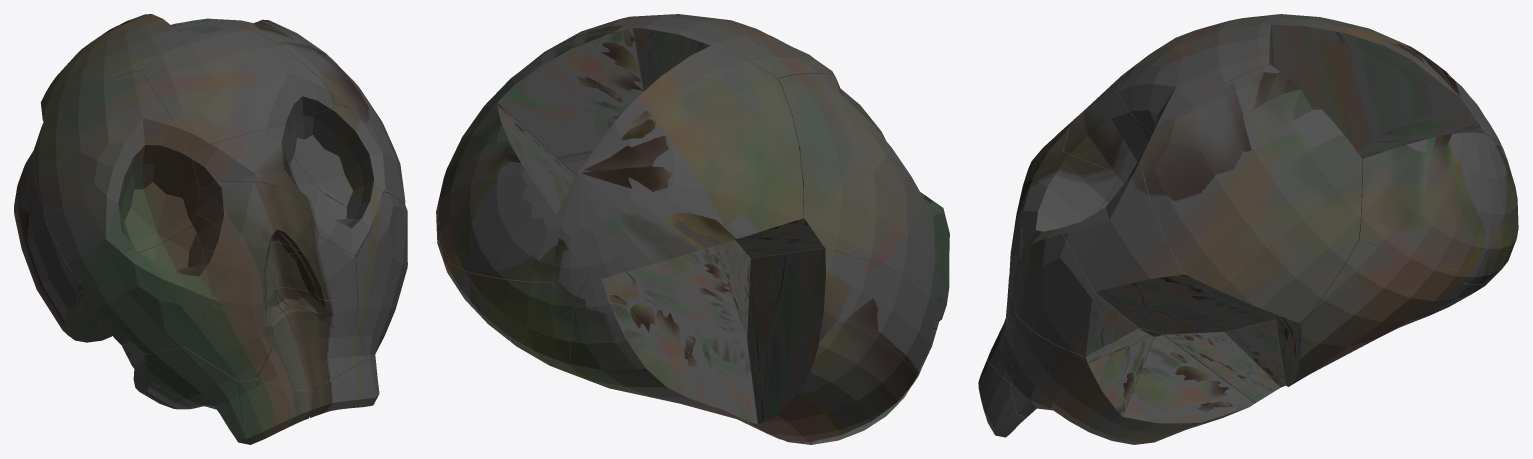
Rendered from iskelet2.fbx.
3 renders of one model, left to right at view 1: azimuth 30°, elevation 25°; view 2: azimuth 150°, elevation 25°; view 3: azimuth 270°, elevation 25°, orthographic. The views are drawn at different scales.
Parts seen in each view (by area): view 1: Sphere.001_cell.009, Sphere.001_cell, Sphere.001_cell.007, Sphere.001_cell.027, Sphere.001_cell.024, Sphere.001_cell.004, Sphere.001_cell.048, Sphere.001_cell.037, Sphere.001_cell.042, Sphere.001_cell.015, Sphere.001_cell.025, Sphere.001_cell.012 (+18 smaller); view 2: Sphere.001_cell.048, Sphere.001_cell.024, Sphere.001_cell.049, Sphere.001_cell.009, Sphere.001_cell.017, Sphere.001_cell.008, Sphere.001_cell, Sphere.001_cell.023, Sphere.001_cell.028, Sphere.001_cell.032, Sphere.001_cell.007; view 3: Sphere.001_cell.008, Sphere.001_cell.048, Sphere.001_cell.017, Sphere.001_cell.027, Sphere.001_cell.019, Sphere.001_cell.041, Sphere.001_cell, Sphere.001_cell.011, Sphere.001_cell.025, Sphere.001_cell.001, Sphere.001_cell.037, Sphere.001_cell.046 (+6 smaller).
Boxes of the visible parts, x1,y1,x2,y2 form: Sphere.001_cell.009: (33,71,199,281); Sphere.001_cell: (141,28,334,150); Sphere.001_cell.007: (80,226,211,353); Sphere.001_cell.027: (293,104,405,206); Sphere.001_cell.024: (14,151,116,342); Sphere.001_cell.004: (196,181,318,251); Sphere.001_cell.048: (40,14,185,121); Sphere.001_cell.037: (189,122,300,190); Sphere.001_cell.042: (146,345,242,441); Sphere.001_cell.015: (185,301,270,381); Sphere.001_cell.025: (355,192,407,302); Sphere.001_cell.012: (271,236,356,300); Sphere.001_cell.048: (557,45,803,278); Sphere.001_cell.024: (747,248,937,442); Sphere.001_cell.049: (569,246,757,425); Sphere.001_cell.009: (735,73,940,292); Sphere.001_cell.017: (438,103,588,282); Sphere.001_cell.008: (462,16,643,175); Sphere.001_cell: (633,14,834,91); Sphere.001_cell.023: (449,263,586,341); Sphere.001_cell.028: (510,304,577,376); Sphere.001_cell.032: (713,240,788,440); Sphere.001_cell.007: (920,192,949,321); Sphere.001_cell.008: (1141,64,1362,323); Sphere.001_cell.048: (1263,14,1504,158); Sphere.001_cell.017: (1359,132,1512,270); Sphere.001_cell.027: (1063,146,1276,334); Sphere.001_cell.019: (1275,239,1463,386); Sphere.001_cell.041: (1011,311,1153,427); Sphere.001_cell: (1117,16,1273,145); Sphere.001_cell.011: (1089,335,1255,444); Sphere.001_cell.025: (1014,234,1137,356); Sphere.001_cell.001: (1020,151,1124,256); Sphere.001_cell.037: (1063,72,1151,175); Sphere.001_cell.046: (1163,332,1280,402).
Size of the model in its own units: 198 by 183 by 228.
1 material, 1 textured.
